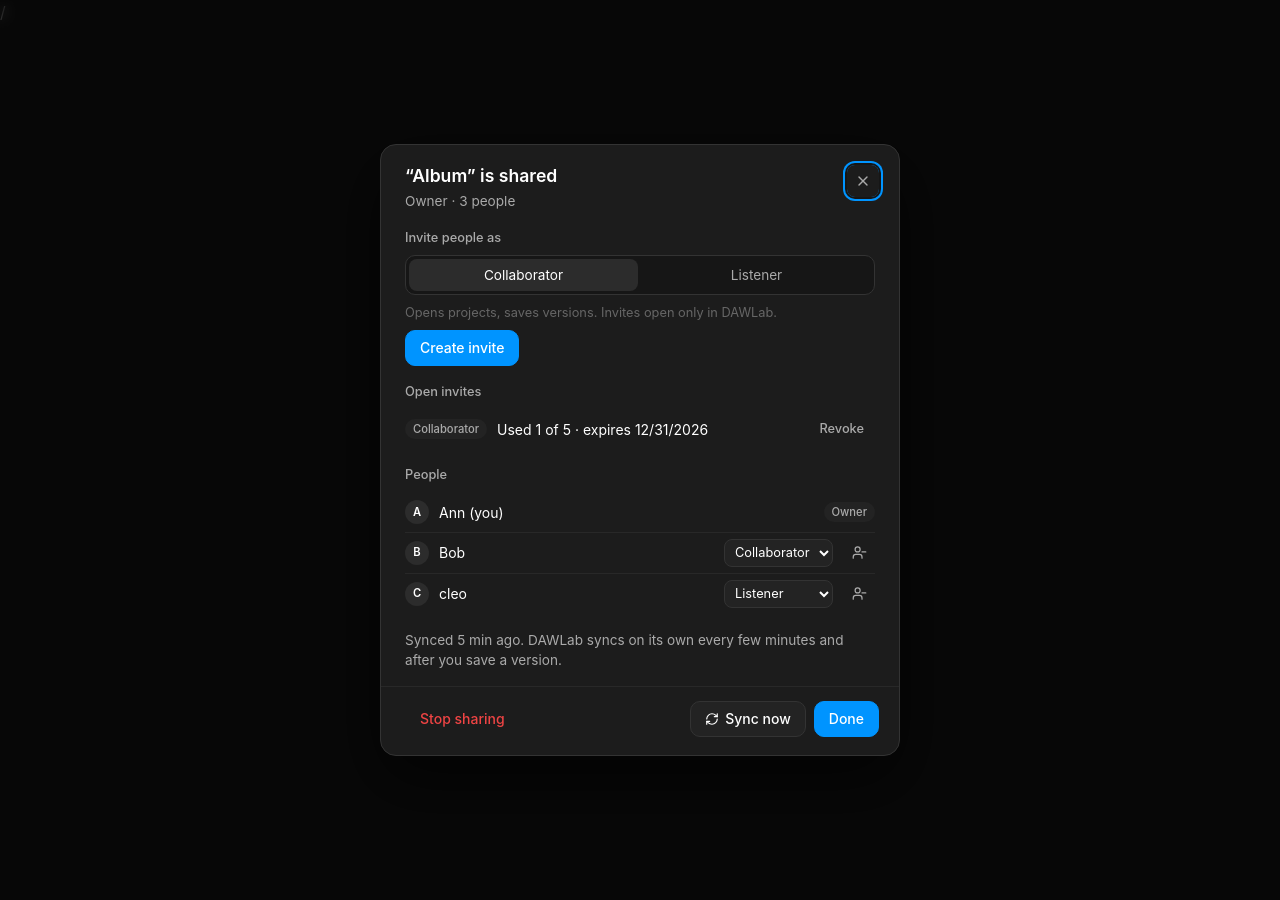
ShareFolderDialog: owner › lists open invites and revokes one
This screenshot has width=1280, height=900.
Expected: the text "Used 1 of 5 · expires 12/31/2026" is shown, [497,421,708,438]
Click the button "Revoke" at (842, 429), box [808,415,875,443]
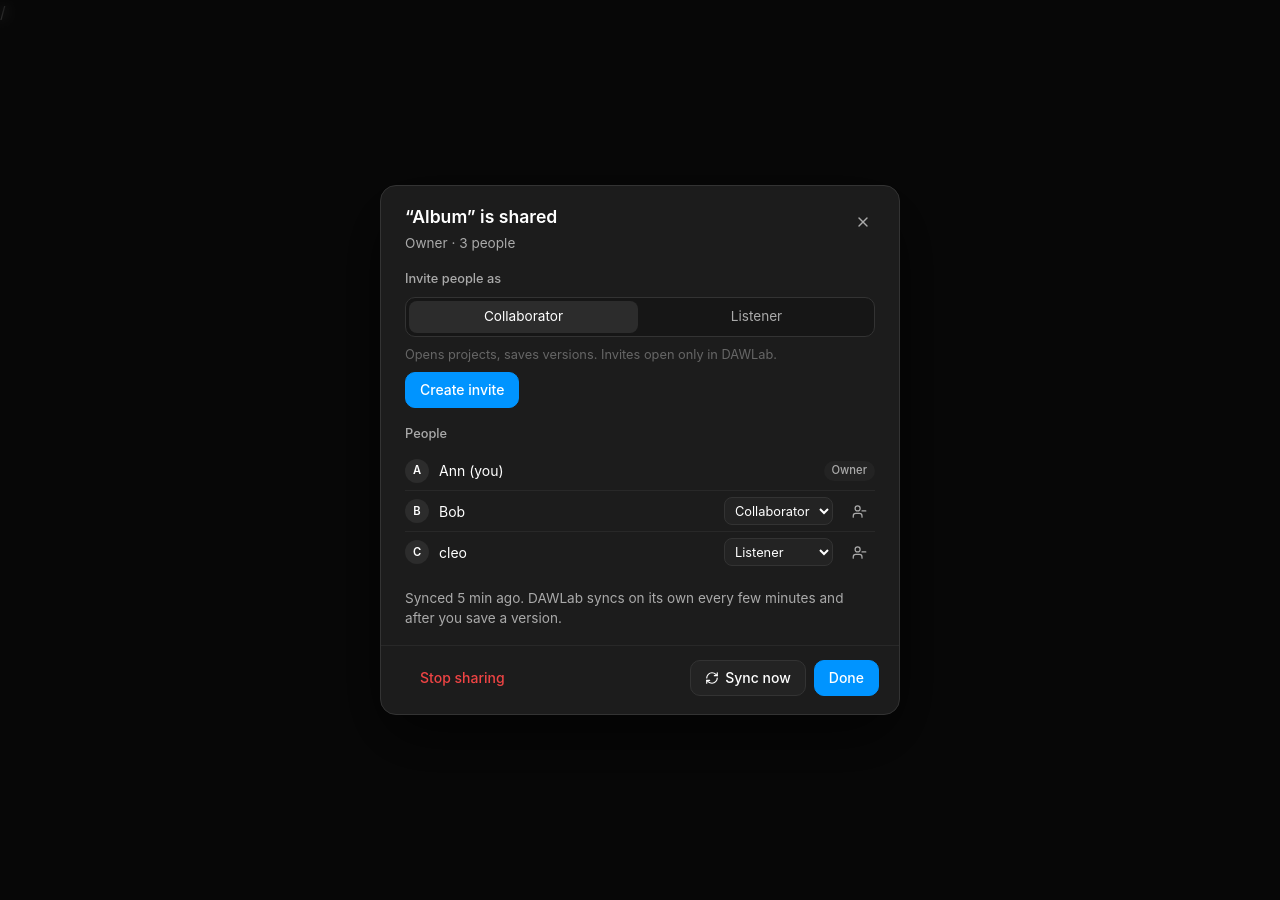
Now the text "Open invites" is gone
